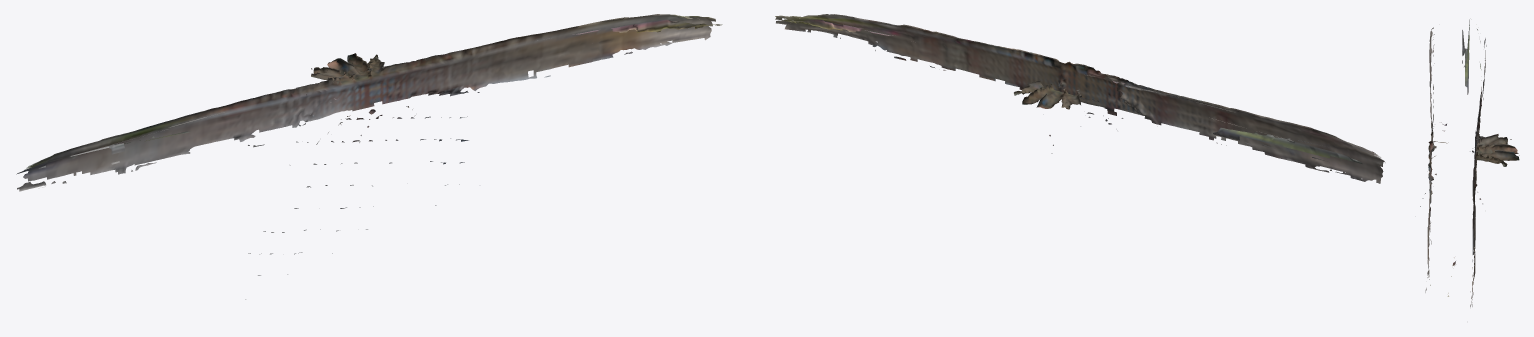
Rendered from collider_mesh_v003.glb.
The picture shows the model from 3 angles, left to right: view 1: azimuth 30°, elevation 25°; view 2: azimuth 150°, elevation 25°; view 3: azimuth 270°, elevation 25°; orthographic projection. The views are drawn at different scales.
Visible parts, largest first — view 1: world; view 2: world; view 3: world.
Boxes of the visible parts, x1,y1,x2,y2 form: world: [16, 14, 722, 299]; world: [775, 14, 1385, 183]; world: [1420, 19, 1519, 307].
Bounding box in the file's own units: 115 × 36.21 × 18.3.
